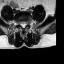CCS_normal: (22, 21, 24, 30)
LFS_stenosis: (26, 20, 28, 26)
LLS_normal: (24, 20, 26, 28)
RFS_stenosis: (18, 20, 20, 26)
RLS_normal: (20, 21, 22, 29)
